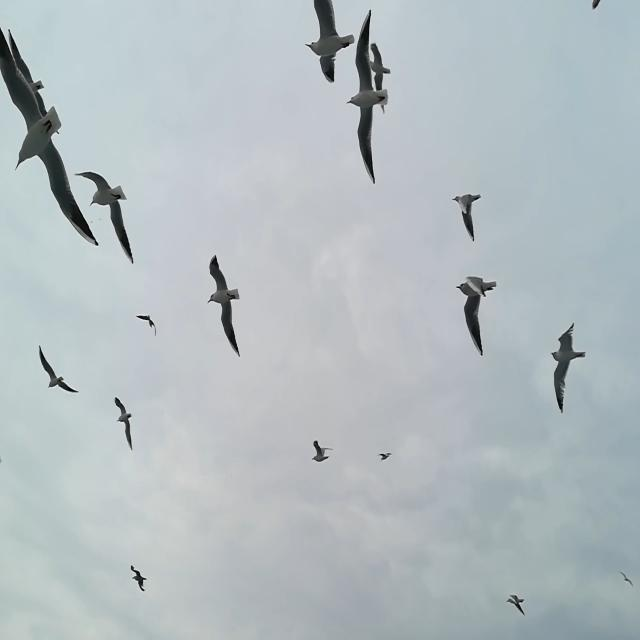bird: (0, 24, 98, 250), (345, 8, 389, 185), (73, 170, 137, 267), (6, 28, 59, 138), (304, 0, 355, 85), (206, 254, 242, 358), (551, 321, 587, 415), (456, 274, 496, 358), (38, 346, 82, 393), (367, 42, 391, 118), (453, 193, 482, 244), (114, 398, 134, 452), (128, 564, 148, 592), (311, 438, 334, 462), (506, 594, 525, 618), (134, 314, 156, 334), (619, 568, 634, 588), (378, 452, 391, 460), (592, 0, 600, 12)
